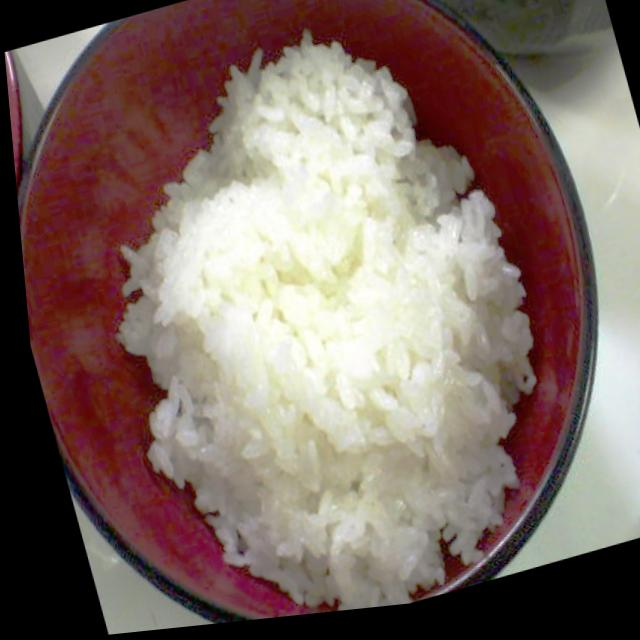rice: (47, 0, 598, 635)
